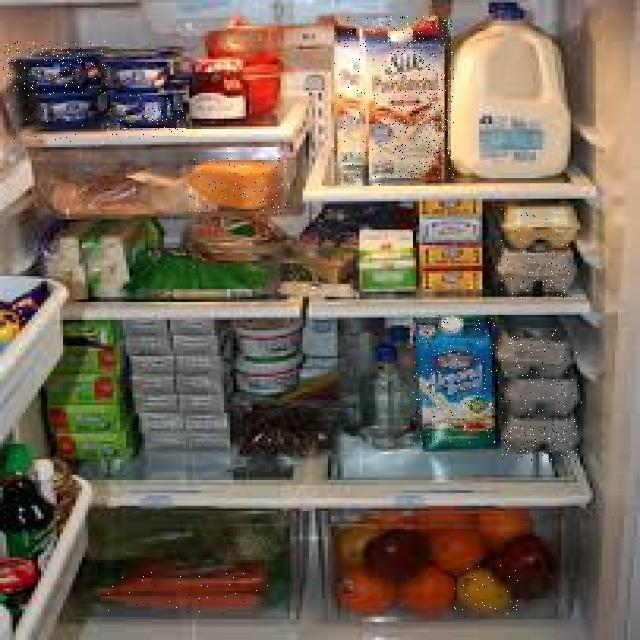carrots: (107, 570, 268, 614)
cheese: (186, 158, 290, 214)
eggs: (492, 330, 577, 390), (501, 410, 580, 462), (498, 250, 577, 300), (501, 209, 580, 248), (498, 382, 583, 413)
lemon: (454, 565, 520, 617)
milk: (363, 16, 454, 178), (413, 315, 495, 446), (334, 16, 388, 188)
yoghurt: (3, 41, 107, 93), (12, 93, 101, 147), (107, 96, 186, 140), (110, 46, 180, 93)
